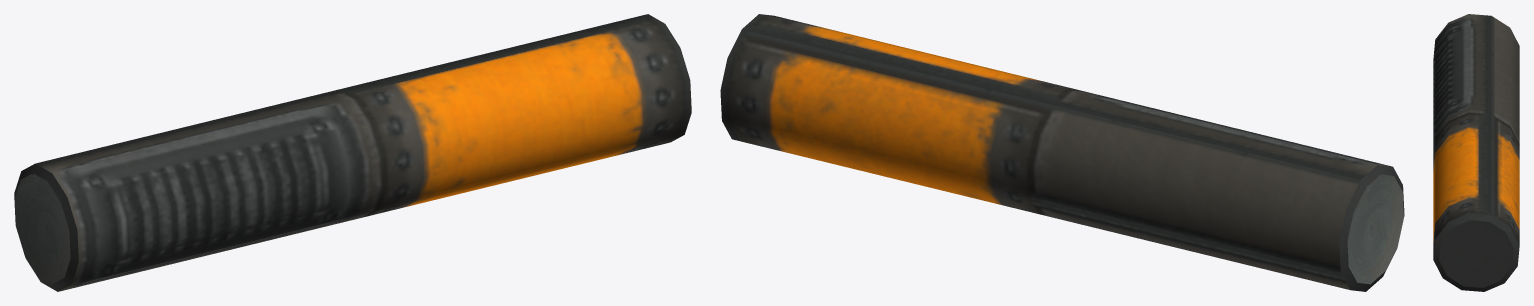
The model's file is Pipe_d.FBX.
3 views of the same model, side by side, from view 1: azimuth 30°, elevation 25°; view 2: azimuth 150°, elevation 25°; view 3: azimuth 270°, elevation 25° (orthographic). The views are drawn at different scales.
Parts seen in each view (by area): view 1: Tube_d; view 2: Tube_d; view 3: Tube_d.
Boxes of the visible parts, box(x1,y1,x2,y2) form: Tube_d: box(14, 14, 691, 291); Tube_d: box(720, 14, 1404, 291); Tube_d: box(1433, 14, 1519, 291).
Bounding box in the file's own units: 3.56 × 0.6436 × 0.6436.
